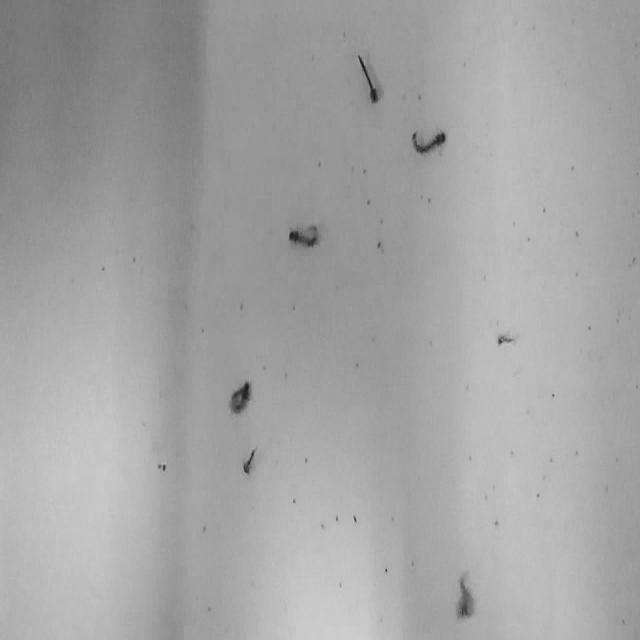larvas: (358, 52, 380, 104), (455, 568, 473, 619), (412, 129, 446, 154), (288, 225, 318, 248), (230, 380, 249, 414), (242, 444, 256, 474), (497, 334, 517, 344)
